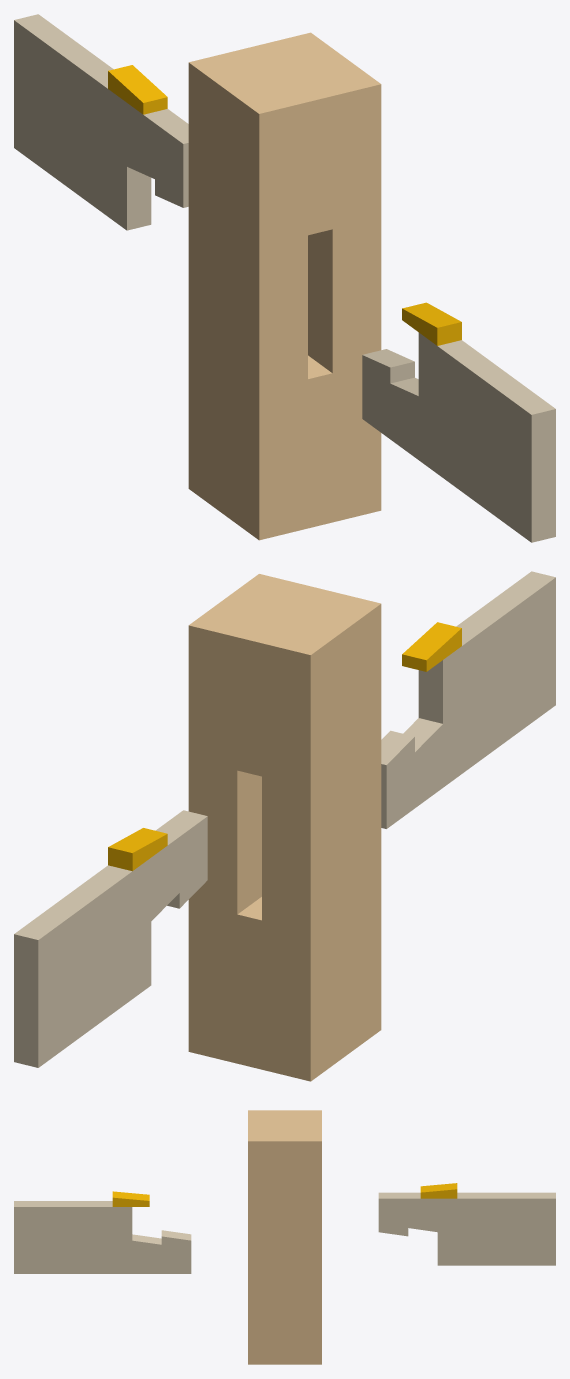
3 views of the same model, one above another, from view 1: azimuth 30°, elevation 25°; view 2: azimuth 150°, elevation 25°; view 3: azimuth 270°, elevation 25° (orthographic). The views are drawn at different scales.
Size of the model in its own units: 0.096 by 0.32 by 0.704.
